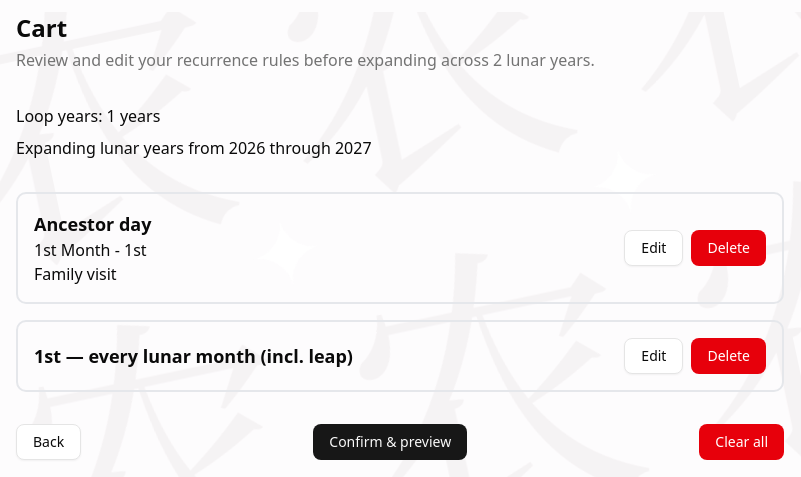
Scenario: cart row frame › delete removes a monthly pick and keeps the custom row
The image size is (801, 477).
Expected: the text "1st — every lunar month (incl. leap)" is shown, [34,344,353,368]
What coordinates should you click on to do the following:
click the button "Delete" in the row of "1st — every lunar month (incl. leap)"
I would click on:
 (729, 356)
Its box is [691,338,766,374].
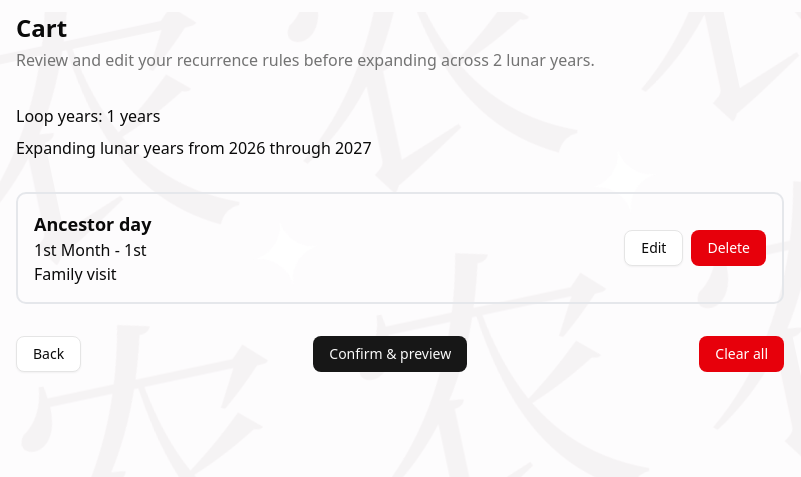
Expected: the text "1st — every lunar month (incl. leap)" is gone
